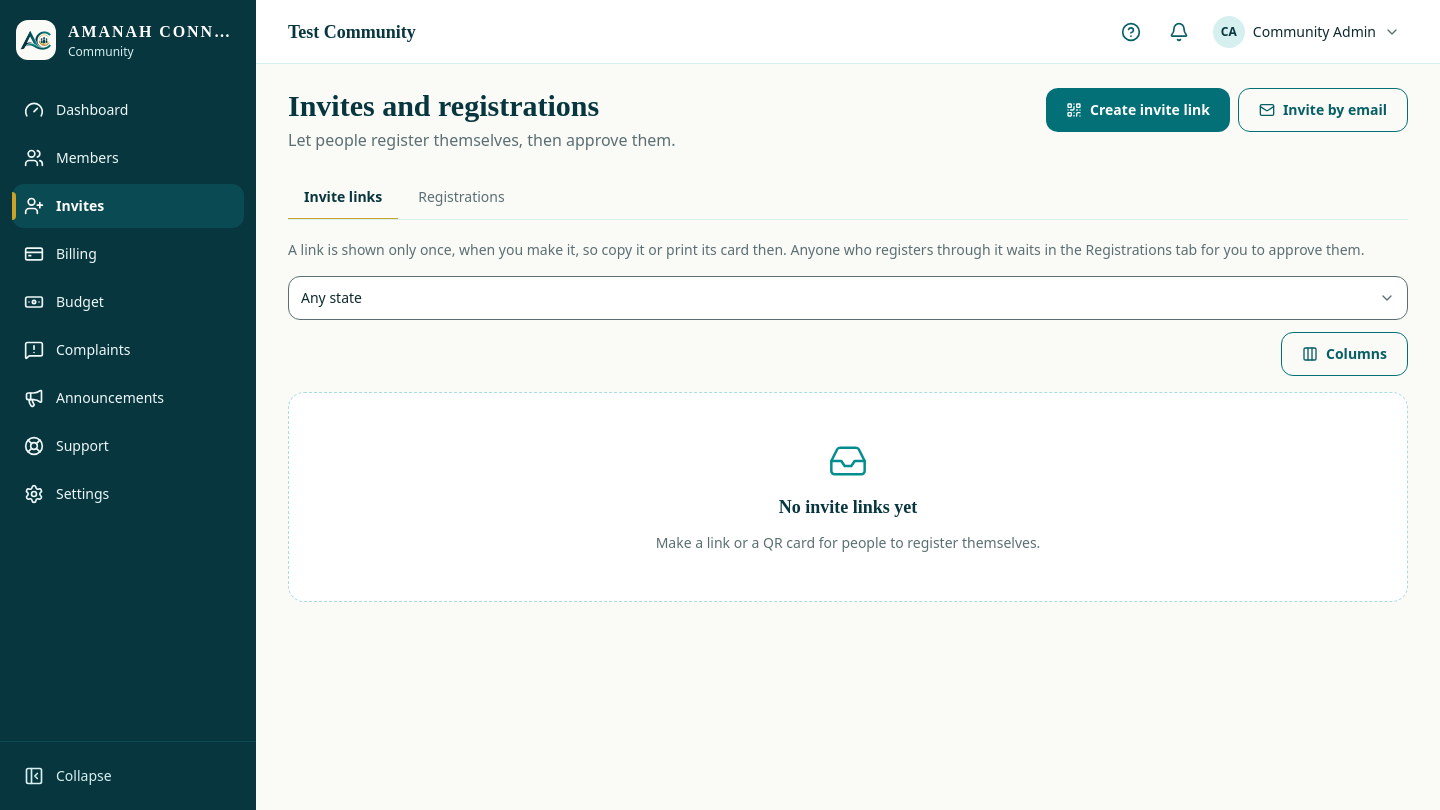
Test case: Invite links › checks days and uses against the limits before sending
Step 1. Click the button "Create invite link" → click(1138, 110), box [1046,88,1230,132]
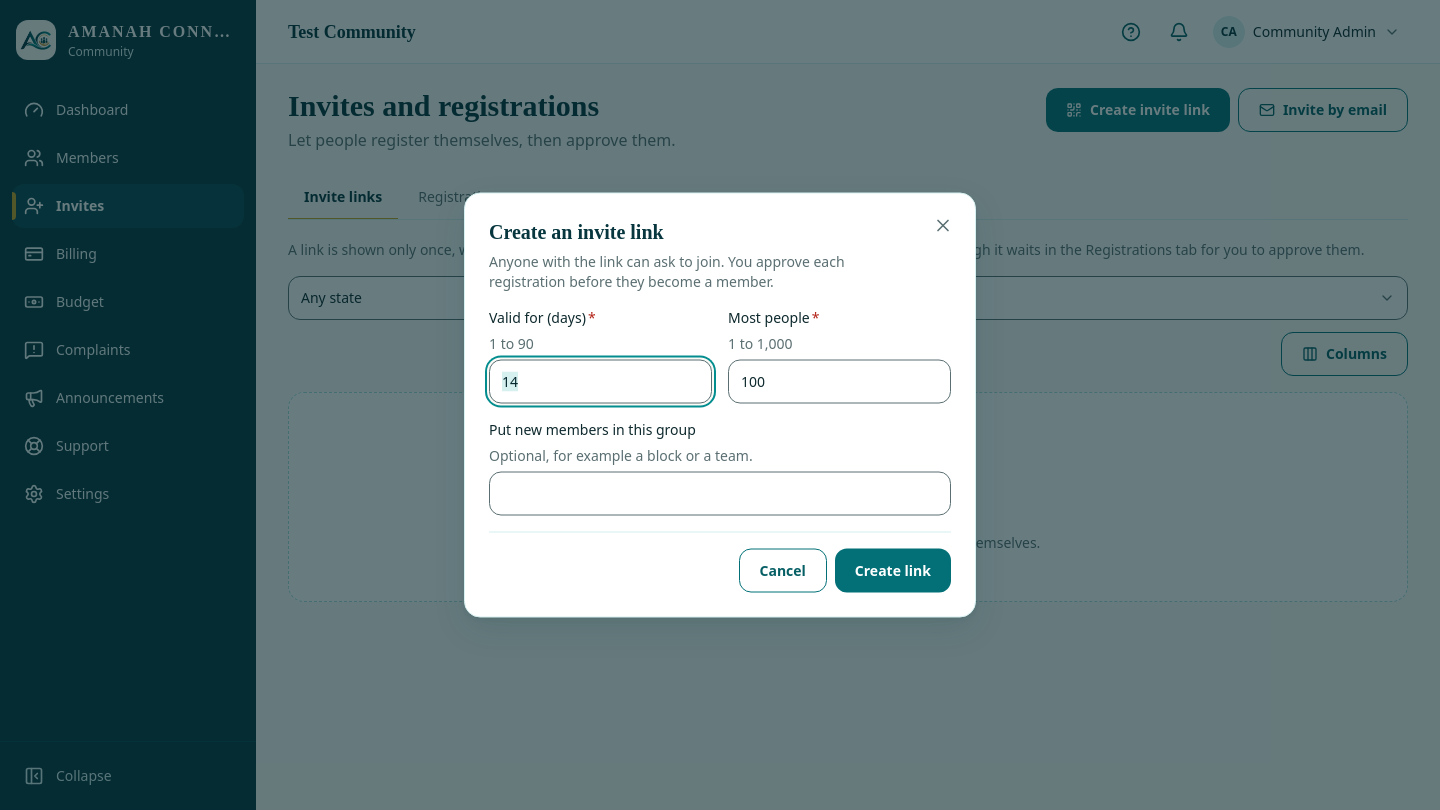
Step 2. Replace the text in the field labelled "Valid for (days)*" with "91" → (600, 382), box [489,360,712,404]
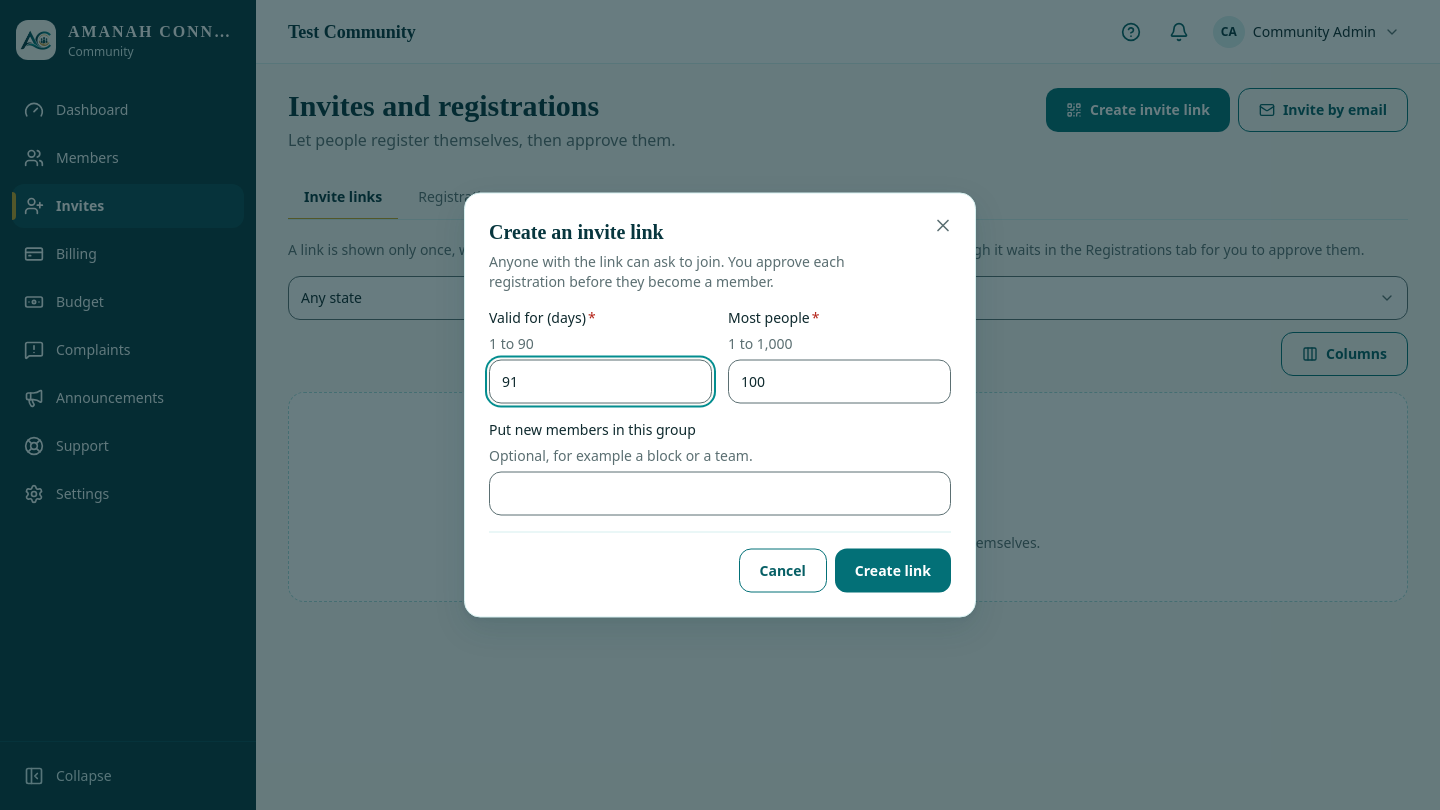
Step 3. Clear the field labelled "Most people*" → (840, 382), box [728,360,951,404]
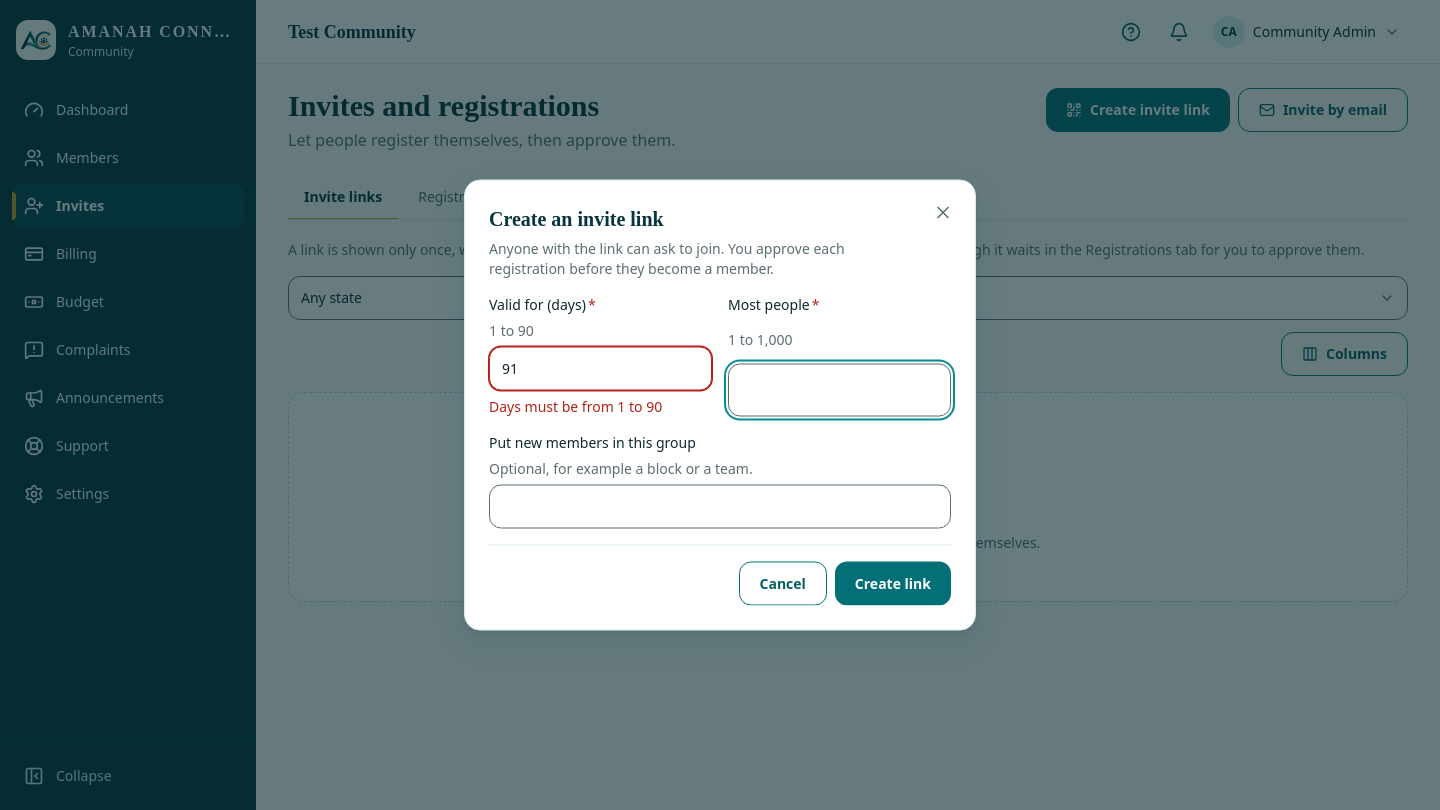
Step 4. Type "0" into the field labelled "Most people*" → (840, 390), box [728,364,951,416]
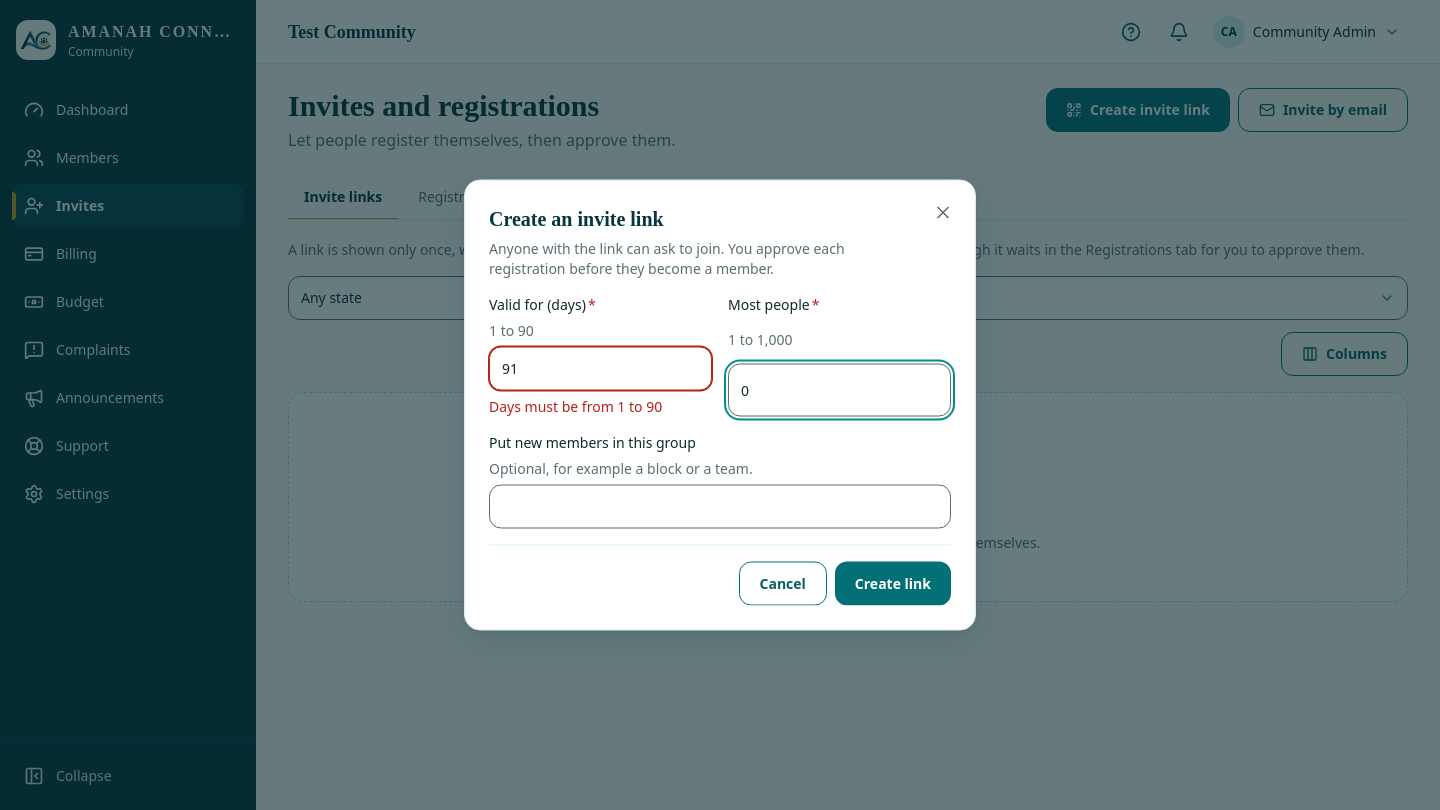
Step 5. Click the button "Create link" → click(893, 584), box [835,562,951,606]
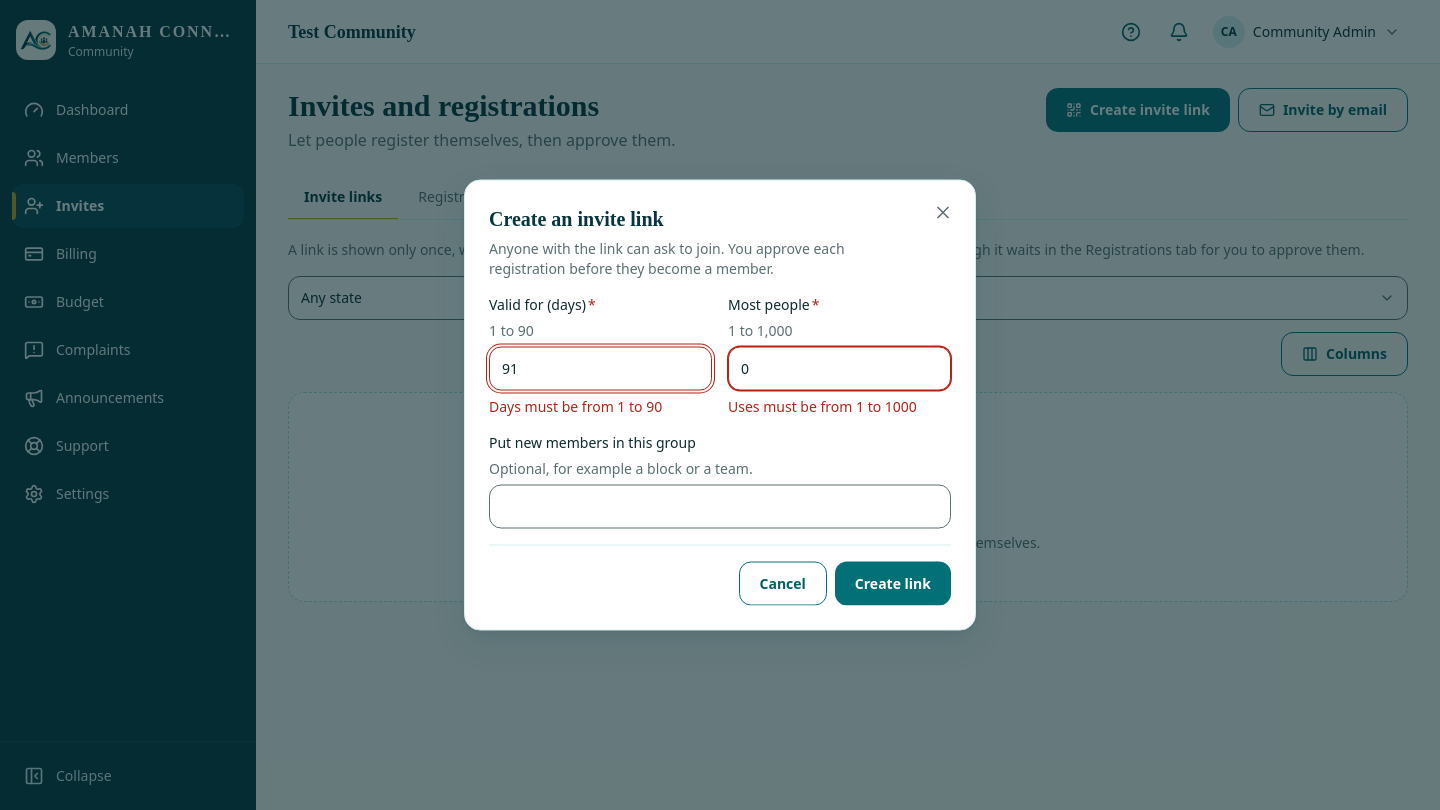
Expected: the text "Days must be from 1 to 90" is shown, [489,396,662,416]
Expected: the text "Uses must be from 1 to 1000" is shown, [728,396,917,416]
